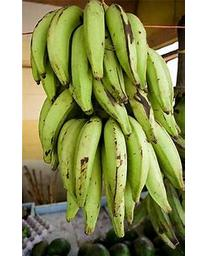banana: (29, 0, 180, 238)
